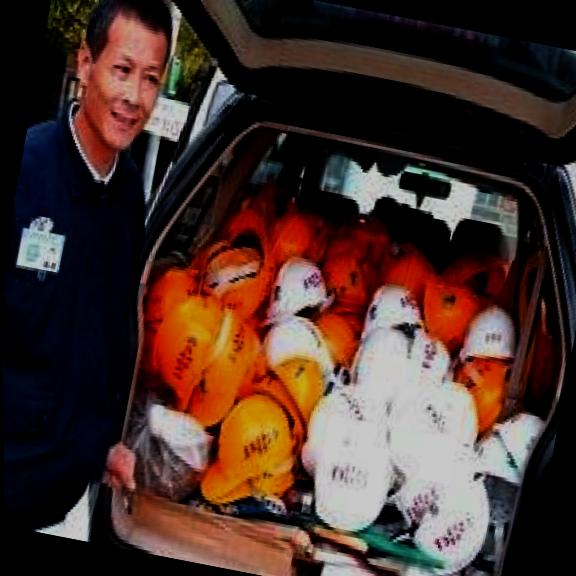no_safety_vest: (1, 101, 177, 523)
